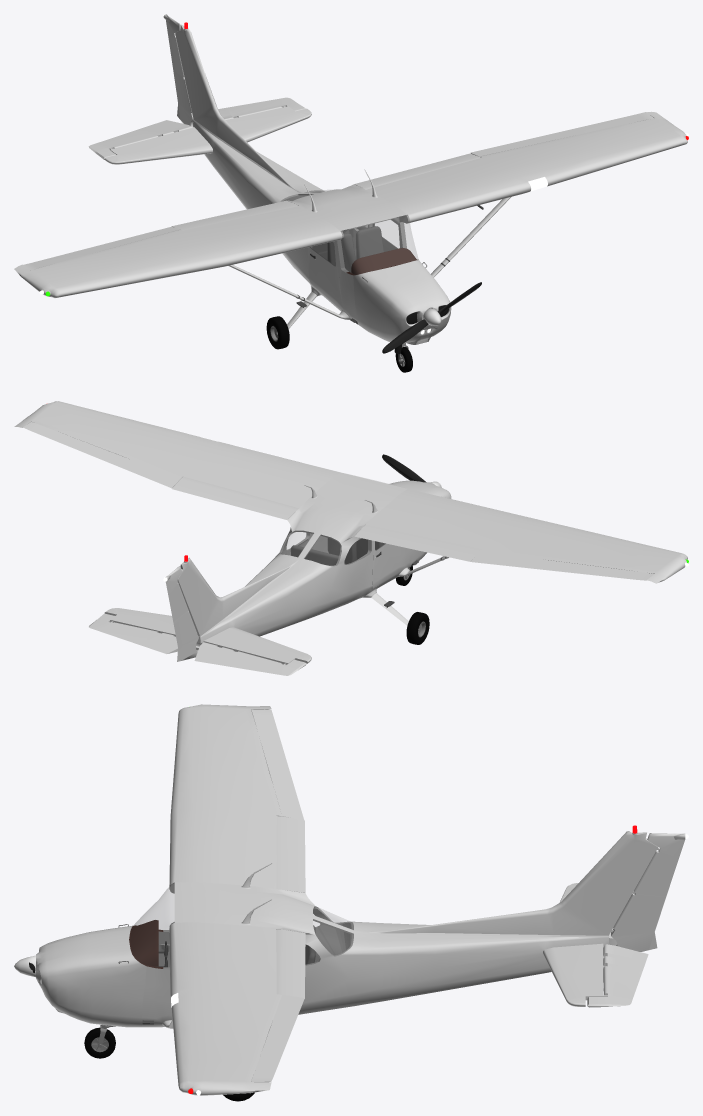
File: Cessna172_v002.glb
3 renders of one model, top to bottom at view 1: azimuth 30°, elevation 25°; view 2: azimuth 150°, elevation 25°; view 3: azimuth 270°, elevation 25°, orthographic. The views are drawn at different scales.
Visible parts, largest first — view 1: 172, Aileron.Left, Elevator.Right, Rudder, Aileron.Right, Flaps.Left, Prop, Flaps.Right, Elevator.Left, Wheel.Right; view 2: 172, Flaps.Left, Aileron.Right, Aileron.Left, Flaps.Right, Elevator.Right, Rudder, Elevator.Left, Wheel.Right, Prop; view 3: 172, Rudder, Elevator.Left, Aileron.Right, Flaps.Right, Aileron.Left, Flaps.Left, Wheel.Front.
Part boxes in pixels (<box>): 172: <box>14,22,688,354</box>; Aileron.Left: <box>470,112,653,156</box>; Elevator.Right: <box>88,120,192,159</box>; Rudder: <box>163,14,193,127</box>; Aileron.Right: <box>23,226,180,270</box>; Flaps.Left: <box>354,153,480,189</box>; Prop: <box>382,282,481,353</box>; Flaps.Right: <box>172,200,298,230</box>; Elevator.Left: <box>218,97,305,119</box>; Wheel.Right: <box>266,316,289,349</box>; 172: <box>14,401,688,664</box>; Flaps.Left: <box>172,476,298,519</box>; Aileron.Right: <box>470,551,653,580</box>; Aileron.Left: <box>23,422,180,488</box>; Flaps.Right: <box>354,524,481,561</box>; Elevator.Right: <box>194,642,306,675</box>; Rudder: <box>163,566,198,661</box>; Elevator.Left: <box>89,613,177,653</box>; Wheel.Right: <box>406,612,429,644</box>; Prop: <box>382,454,441,487</box>; 172: <box>36,704,660,1095</box>; Rudder: <box>611,833,688,951</box>; Elevator.Left: <box>587,944,648,1007</box>; Aileron.Right: <box>251,709,303,820</box>; Flaps.Right: <box>276,816,305,892</box>; Aileron.Left: <box>251,994,304,1082</box>; Flaps.Left: <box>276,929,305,998</box>; Wheel.Front: <box>84,1027,115,1058</box>.
Bounding box in the file's own units: 10.96 × 3.05 × 8.06.
